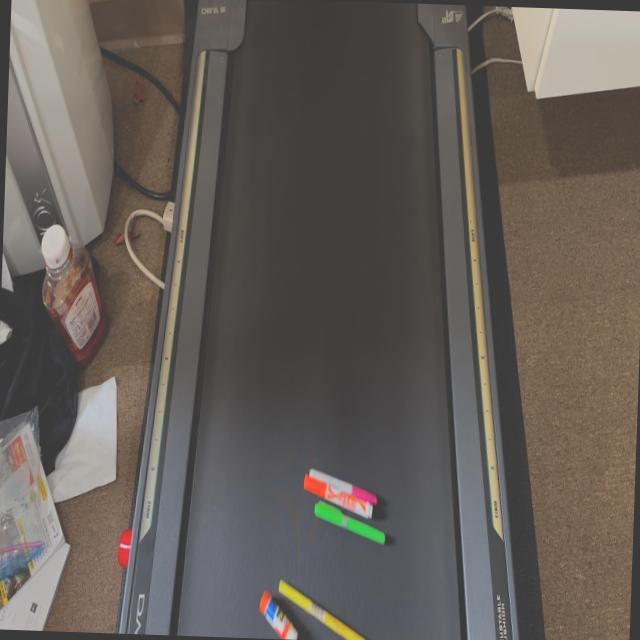Trash: (254, 570, 376, 640), (297, 462, 394, 548)
